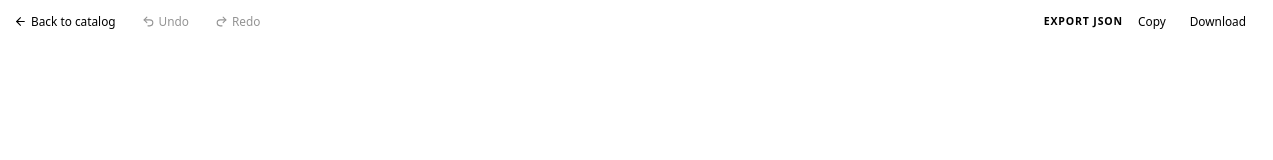
Test: LabFooter › downloads the exported theme JSON as a file and confirms
Click the button "Download": (1218, 22) [1181,8,1255,36]
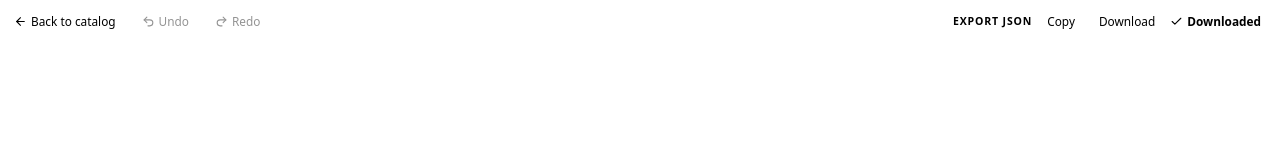
Result: the message reads "Downloaded" at [1187,13,1261,29]
